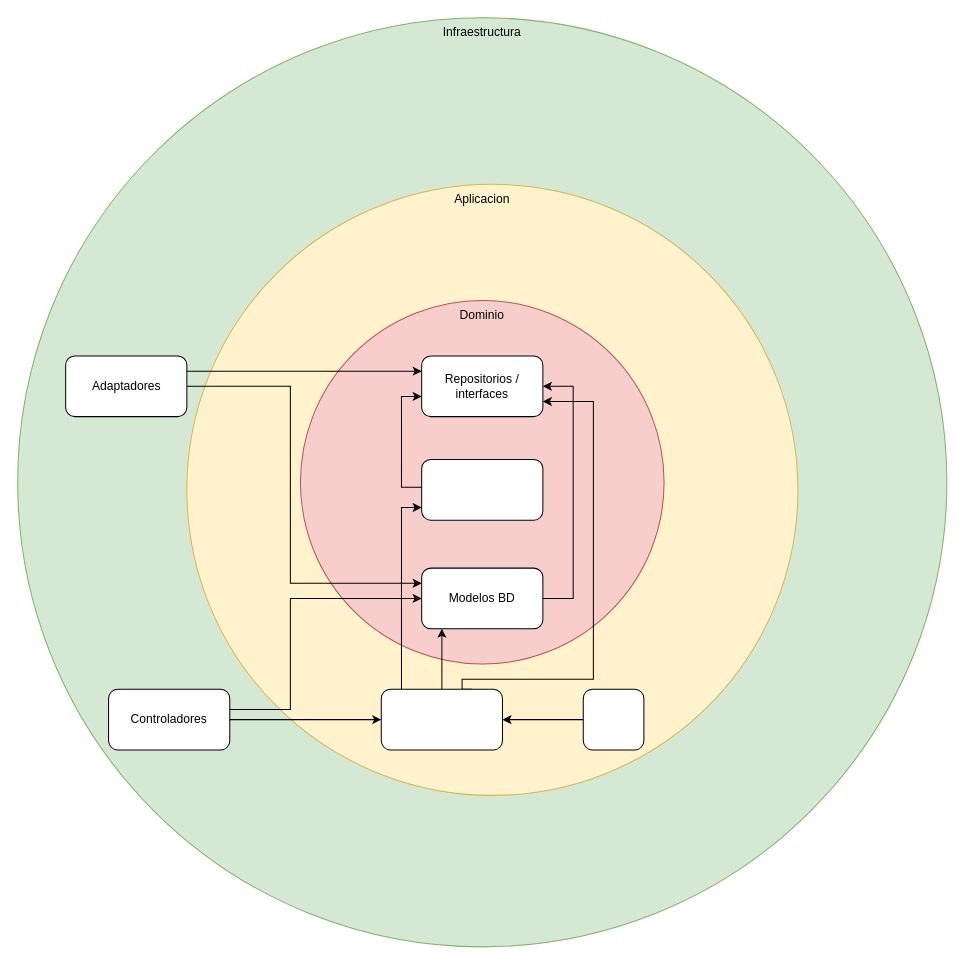
This 965x965 diagram has some shape labels left out. The box of each missing label's shape, as (x1, y1, x2, y2) in pixels:
Casos de uso: (380, 688, 502, 750)
DTOs: (582, 688, 644, 750)
Servicios: (421, 459, 543, 520)
